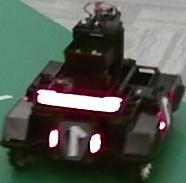armor_1: (49, 129, 102, 153)
back_1: (59, 120, 92, 160)
light: (37, 89, 122, 113)
